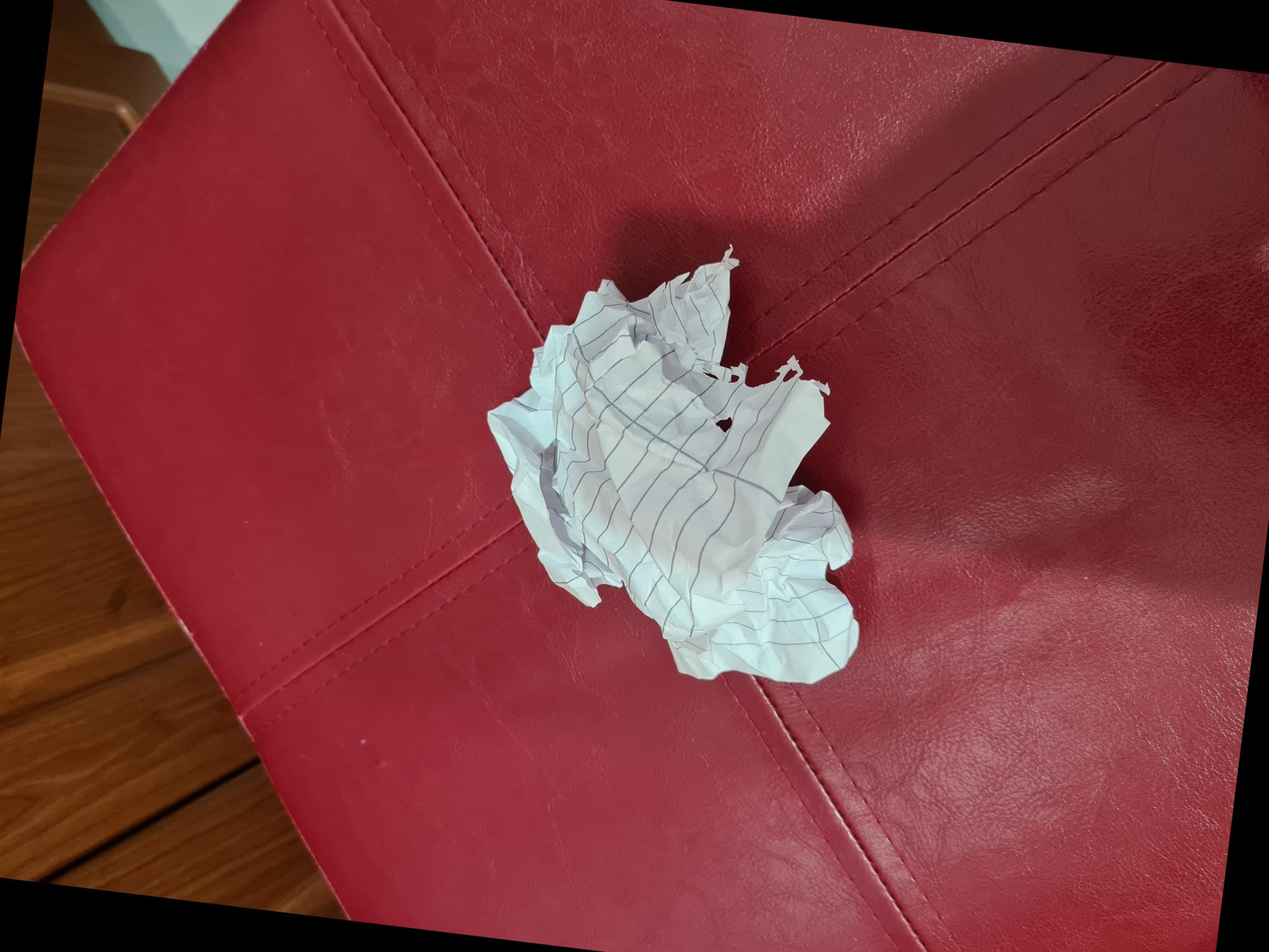Kertas: (245, 467, 702, 852)
